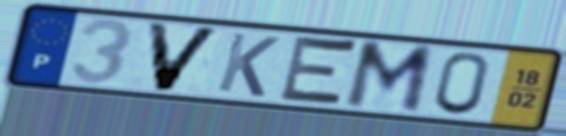0: (433, 50, 493, 117)
3: (68, 17, 141, 89)
E: (274, 32, 363, 111)
K: (213, 30, 283, 100)
M: (340, 39, 438, 117)
V: (143, 19, 226, 94)
